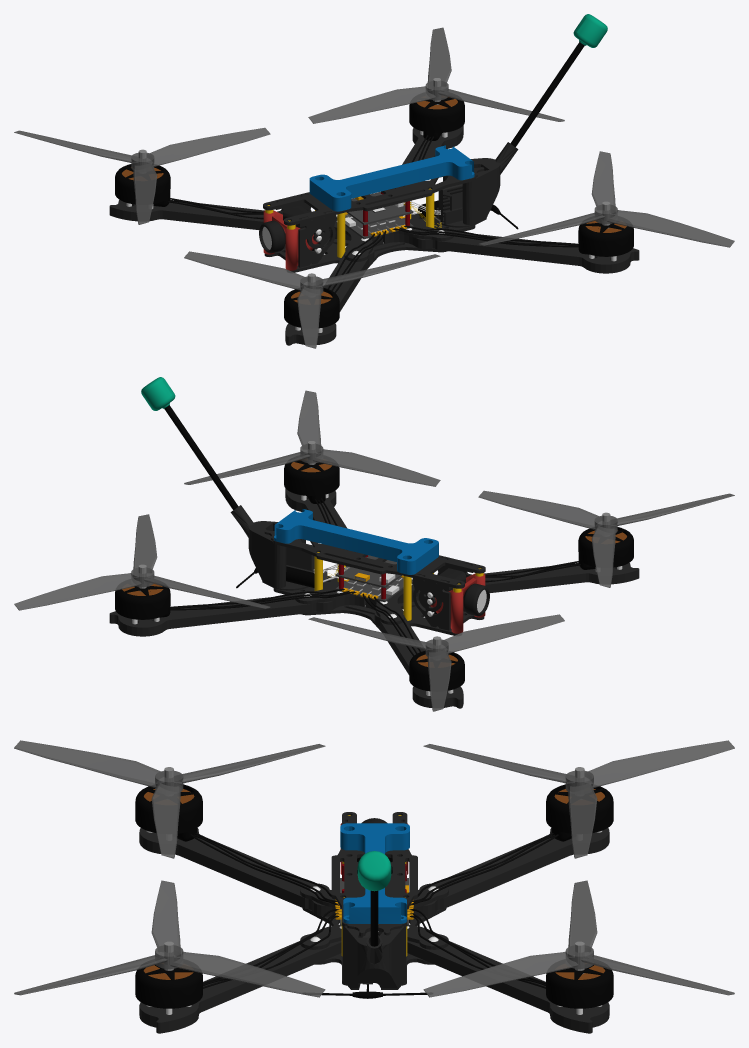
File: Сборка-Все.fbx
3 renders of one model, top to bottom at view 1: azimuth 30°, elevation 25°; view 2: azimuth 150°, elevation 25°; view 3: azimuth 270°, elevation 25°, orthographic. The views are drawn at different scales.
Visible parts, largest first — view 1: пропеллер, корпус-4 стрелы, Ротор, Основание, корпус-верх, корпус-для антенны, Антенна, корпус-для камеры.001, корпус-низ, корпус-крестовина, Камера, Камера держатель пластик (+4 smaller); view 2: пропеллер, корпус-4 стрелы, Ротор, Основание, корпус-верх, корпус-для антенны, Антенна, корпус-для камеры.001, корпус-низ, корпус-крестовина, Камера, Камера держатель пластик (+4 smaller); view 3: пропеллер, корпус-4 стрелы, Ротор, Основание, корпус-для антенны, корпус-верх, корпус-крестовина, Антенна, корпус-низ.
Boxes of the visible parts, x1,y1,x2,y2 form: пропеллер: (14,27,734,348); корпус-4 стрелы: (109,125,639,345); Ротор: (115,78,633,328); Основание: (309,145,474,211); корпус-верх: (263,159,484,225); корпус-для антенны: (435,142,518,227); Антенна: (510,14,607,146); корпус-для камеры.001: (276,194,336,267); корпус-низ: (264,213,475,272); корпус-крестовина: (328,219,453,261); Камера: (259,205,309,253); Камера держатель пластик: (263,210,318,270); пропеллер: (14,390,734,711); корпус-4 стрелы: (109,488,639,708); Ротор: (115,441,633,691); Основание: (274,509,438,574); корпус-верх: (264,522,485,588); корпус-для антенны: (230,505,312,590); Антенна: (141,377,238,509); корпус-для камеры.001: (412,557,472,630); корпус-низ: (273,575,484,635); корпус-крестовина: (295,582,420,624); Камера: (439,568,489,616); Камера держатель пластик: (430,573,485,633); пропеллер: (14,740,734,997); корпус-4 стрелы: (139,828,609,1033); Ротор: (135,767,613,1008); Основание: (340,823,409,923); корпус-для антенны: (342,926,406,989); корпус-верх: (331,812,417,936); корпус-крестовина: (300,883,448,949); Антенна: (357,851,391,946); корпус-низ: (302,876,446,985).
Size of the model in its own units: 31487 by 11739 by 36295.
